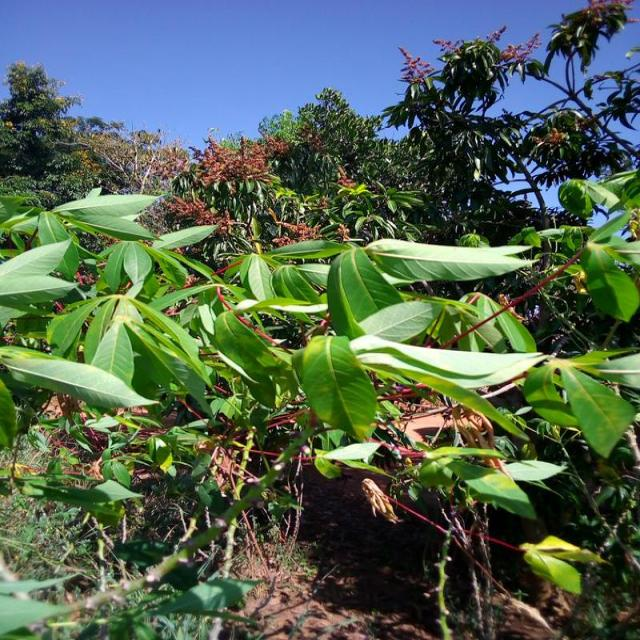cassava leaf: (0, 344, 159, 411), (298, 332, 378, 442)
